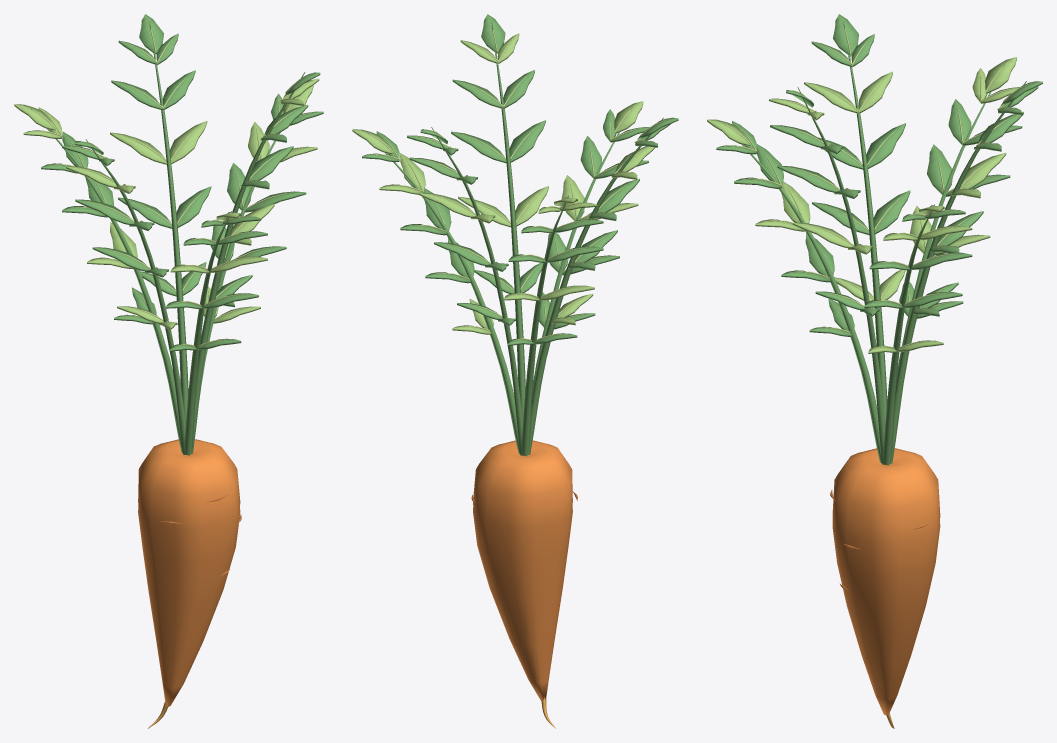
The model's file is CarrotPlant.fbx.
3 renders of one model, left to right at view 1: azimuth 30°, elevation 25°; view 2: azimuth 150°, elevation 25°; view 3: azimuth 270°, elevation 25°, orthographic. The views are drawn at different scales.
Parts seen in each view (by area): view 1: Leaves, RootCarrot; view 2: Leaves, RootCarrot; view 3: Leaves, RootCarrot.
Part boxes in pixels (<box>): Leaves: <box>14,14,323,455</box>; RootCarrot: <box>138,439,241,728</box>; Leaves: <box>352,14,678,456</box>; RootCarrot: <box>471,440,577,728</box>; Leaves: <box>707,14,1042,465</box>; RootCarrot: <box>830,448,940,728</box>.
Size of the model in its own units: 0.519 by 1.15 by 0.4998.
